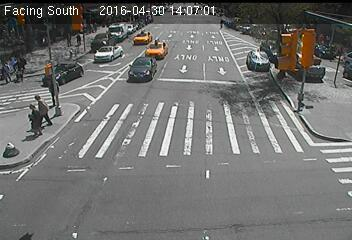neg: (86, 169, 106, 196), (305, 43, 325, 69), (133, 59, 150, 83), (246, 44, 262, 66), (257, 83, 272, 103), (9, 53, 24, 72), (158, 41, 172, 61), (181, 59, 194, 78), (213, 49, 226, 67), (173, 4, 186, 22), (137, 27, 150, 44), (300, 90, 312, 107), (330, 124, 341, 139), (95, 2, 104, 15)
pos: (27, 89, 55, 127), (20, 102, 48, 139), (42, 75, 63, 102), (63, 30, 75, 46), (72, 32, 83, 47)
